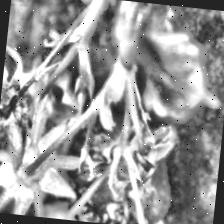Gray Mold: (0, 41, 39, 175)
